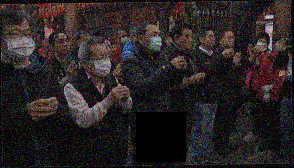with_mask: (2, 24, 37, 62), (88, 52, 112, 78), (142, 30, 162, 53), (119, 31, 130, 46), (256, 38, 268, 50)
without_mask: (55, 37, 72, 54), (181, 31, 194, 51), (222, 34, 235, 49), (204, 33, 216, 47), (276, 39, 286, 52), (42, 40, 50, 49)
